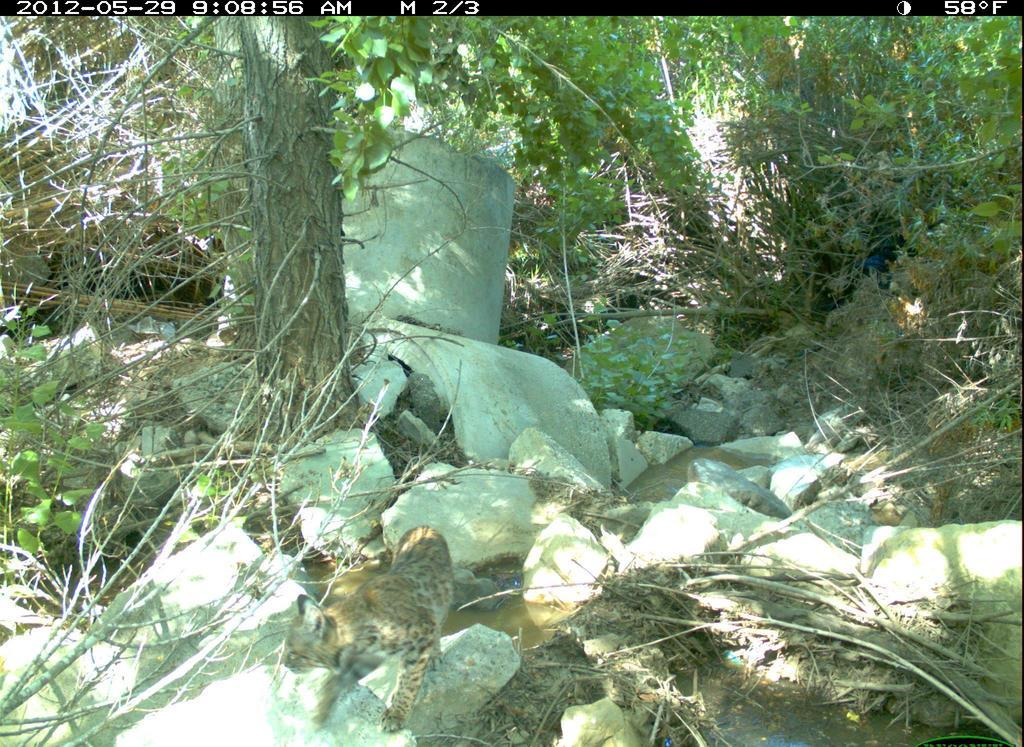bobcat: (273, 524, 475, 725)
